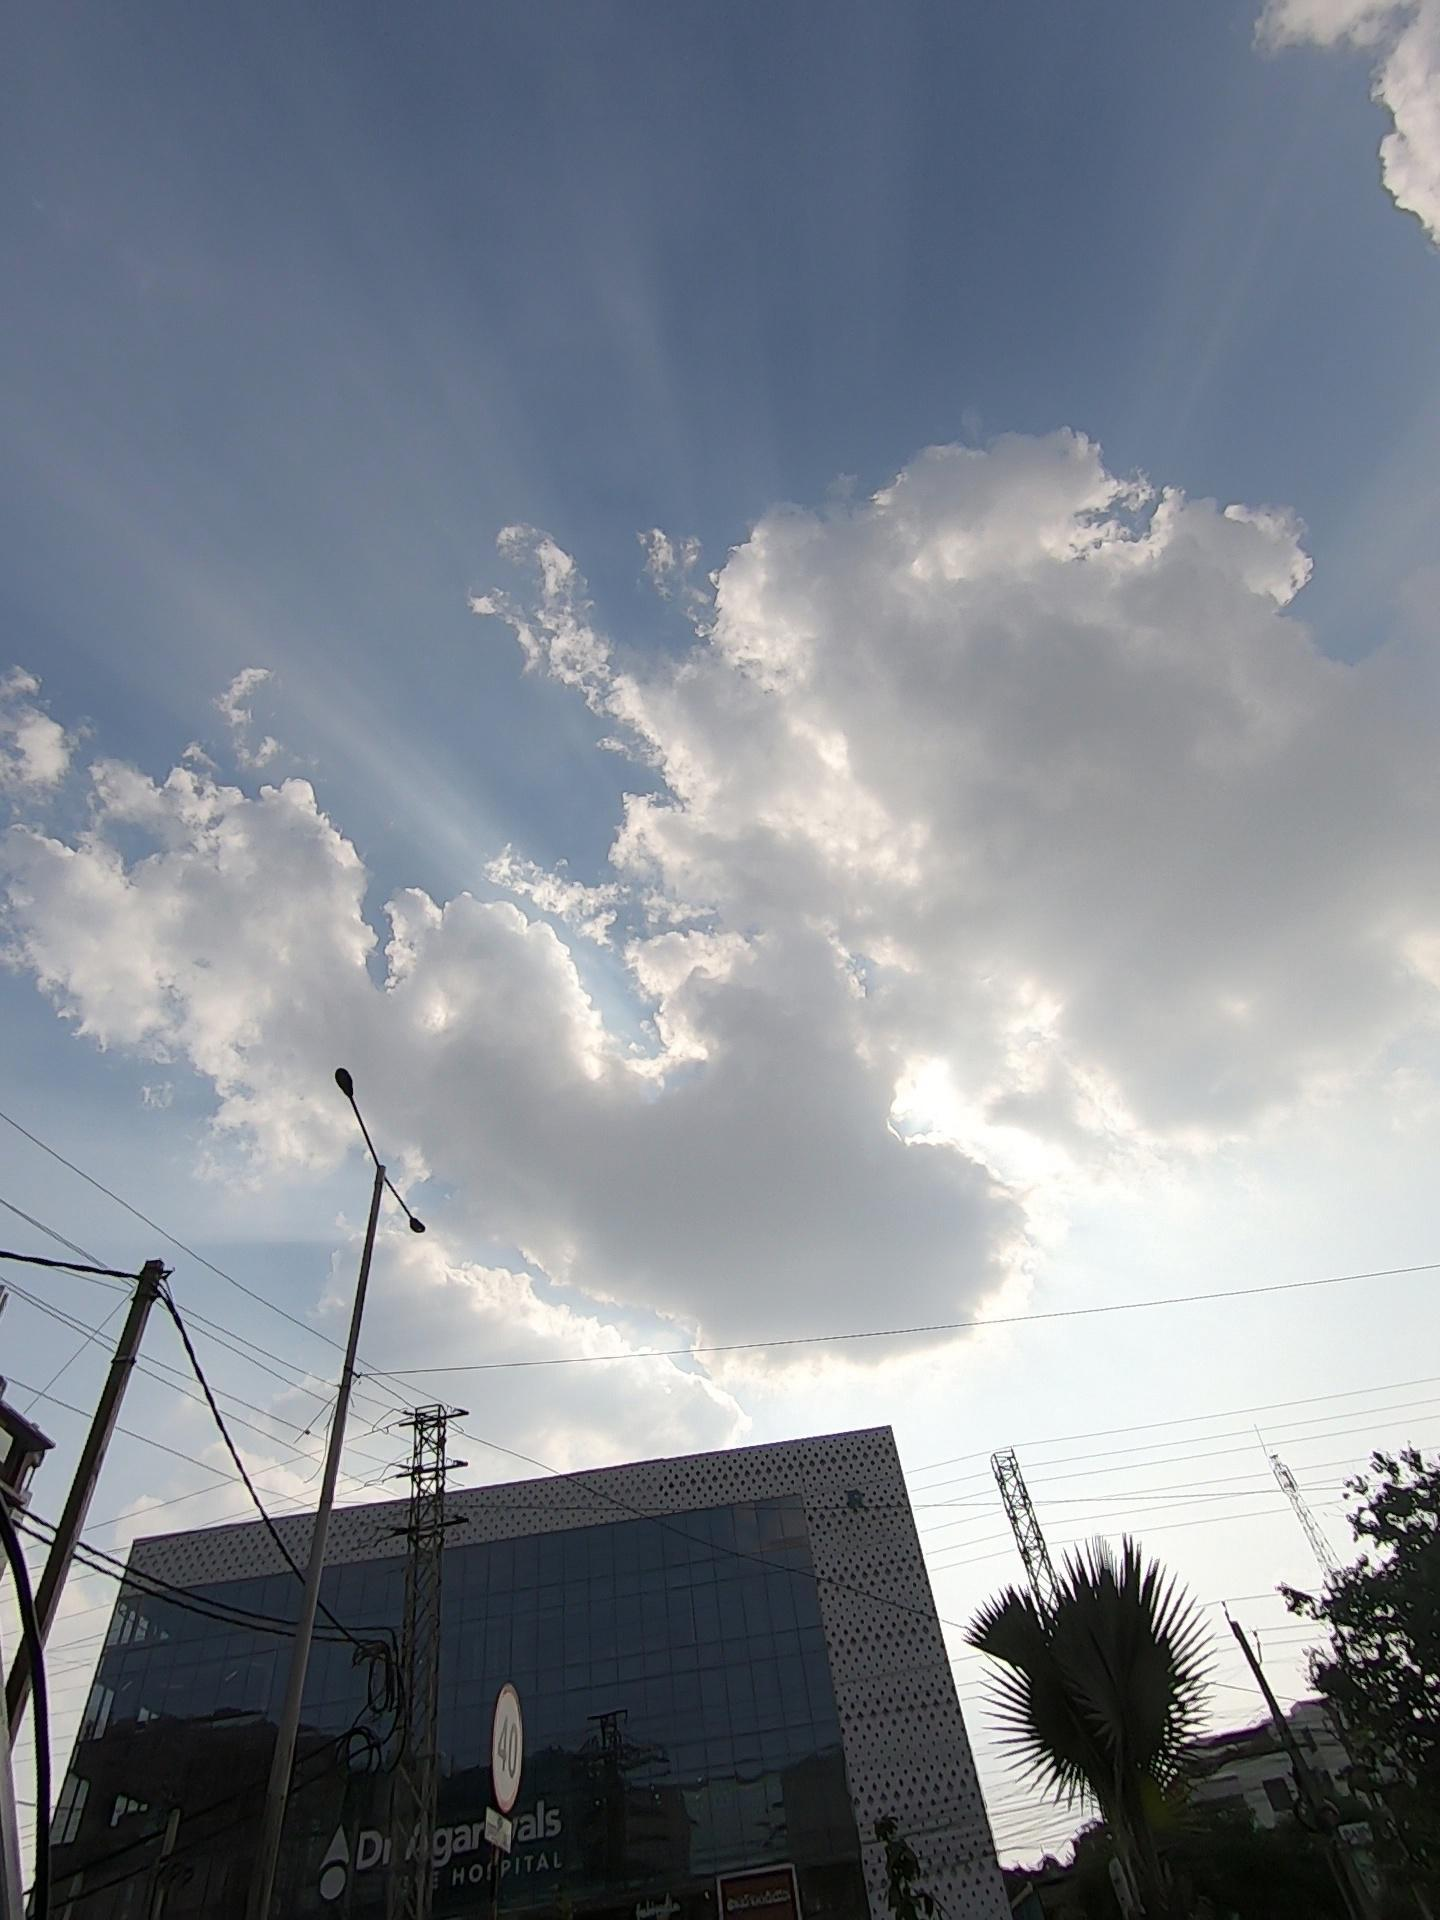off: (299, 1016, 487, 1312)
